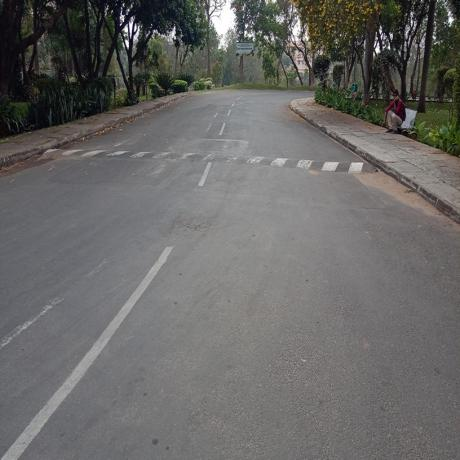Speed Bump: (36, 144, 379, 178)
